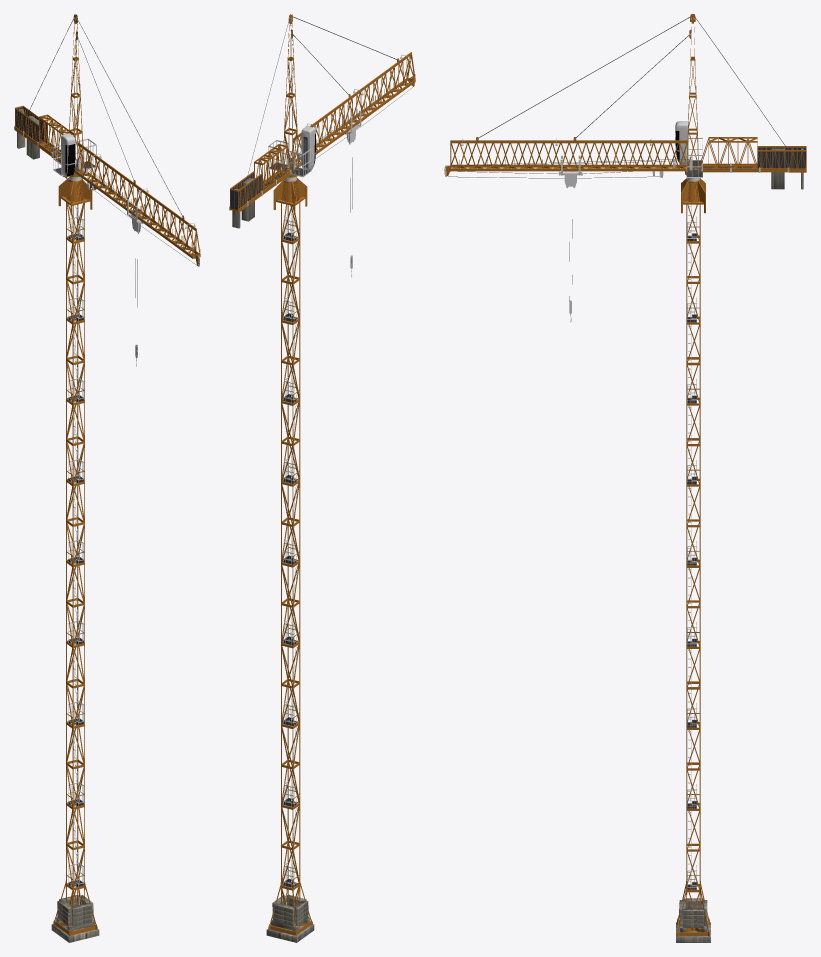
The model's file is crane.glb.
The picture shows the model from 3 angles, left to right: view 1: azimuth 30°, elevation 25°; view 2: azimuth 150°, elevation 25°; view 3: azimuth 270°, elevation 25°; orthographic projection.
Parts seen in each view (by area): view 1: 0, 3, 6, 2, 5, 1; view 2: 0, 3, 6, 2, 5, 1, 7; view 3: 0, 3, 2, 6, 5.
Boxes of the visible parts, x1=… form: 0: x1=14, y1=14, x2=200, y2=936; 3: x1=53, y1=138, x2=96, y2=887; 6: x1=17, y1=109, x2=99, y2=942; 2: x1=15, y1=107, x2=94, y2=886; 5: x1=27, y1=17, x2=199, y2=353; 1: x1=23, y1=17, x2=199, y2=366; 0: x1=229, y1=14, x2=415, y2=936; 3: x1=268, y1=140, x2=311, y2=887; 6: x1=232, y1=178, x2=314, y2=942; 2: x1=230, y1=162, x2=309, y2=887; 5: x1=245, y1=16, x2=413, y2=262; 1: x1=247, y1=17, x2=414, y2=277; 7: x1=301, y1=126, x2=315, y2=170; 0: x1=445, y1=14, x2=806, y2=936; 3: x1=686, y1=137, x2=702, y2=889; 2: x1=687, y1=147, x2=805, y2=889; 6: x1=676, y1=148, x2=803, y2=942; 5: x1=447, y1=17, x2=787, y2=301.
Size of the model in its own units: 6.05 by 151 by 53.81.
Materials: 9 (4 with a texture image).
